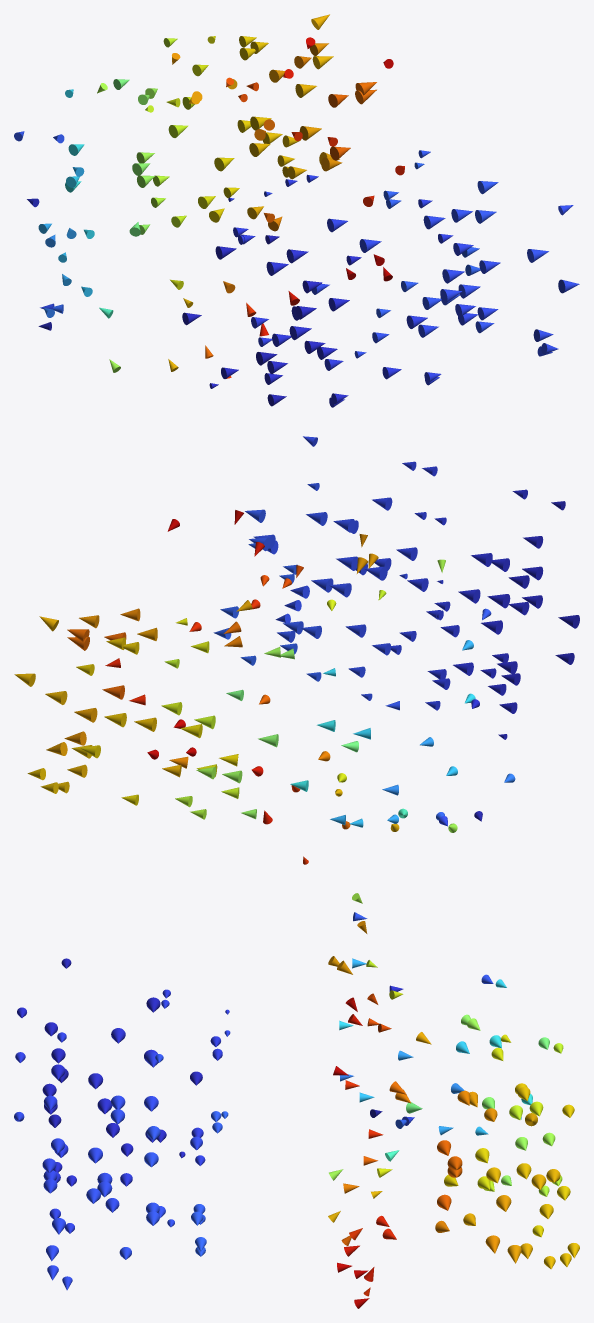
The model's file is LineasCorrienteN2-H2O_mh2-1.38_V-0.8.glb.
3 renders of one model, top to bottom at view 1: azimuth 30°, elevation 25°; view 2: azimuth 150°, elevation 25°; view 3: azimuth 270°, elevation 25°, orthographic.
Size of the model in its own units: 0.000985 by 0.000811 by 0.0012.
2 materials, 2 textured.
